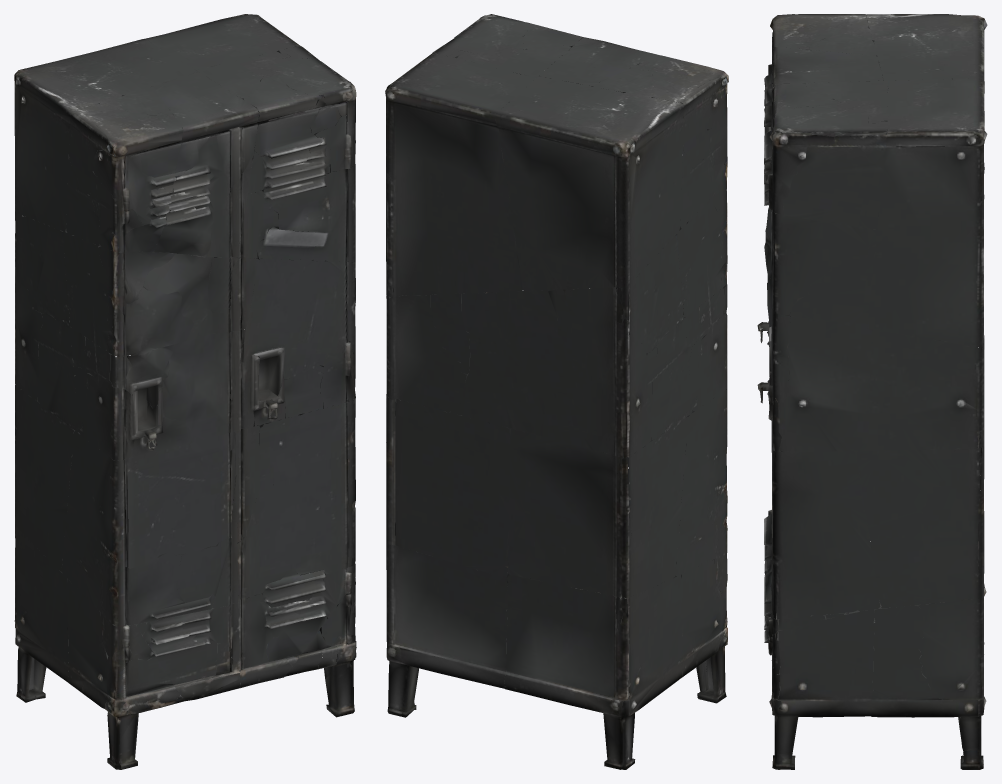
The model's file is prop_locker.glb.
The picture shows the model from 3 angles, left to right: view 1: azimuth 30°, elevation 25°; view 2: azimuth 150°, elevation 25°; view 3: azimuth 270°, elevation 25°; orthographic projection.
Parts seen in each view (by area): view 1: prop_locker; view 2: prop_locker; view 3: prop_locker.
Part boxes in pixels (<box>): prop_locker: <box>14,14,356,769</box>; prop_locker: <box>385,14,728,769</box>; prop_locker: <box>757,14,987,769</box>.
Bounding box in the file's own units: 0.7452 × 1.8 × 0.5884.
Materials: 1 (1 with a texture image).
